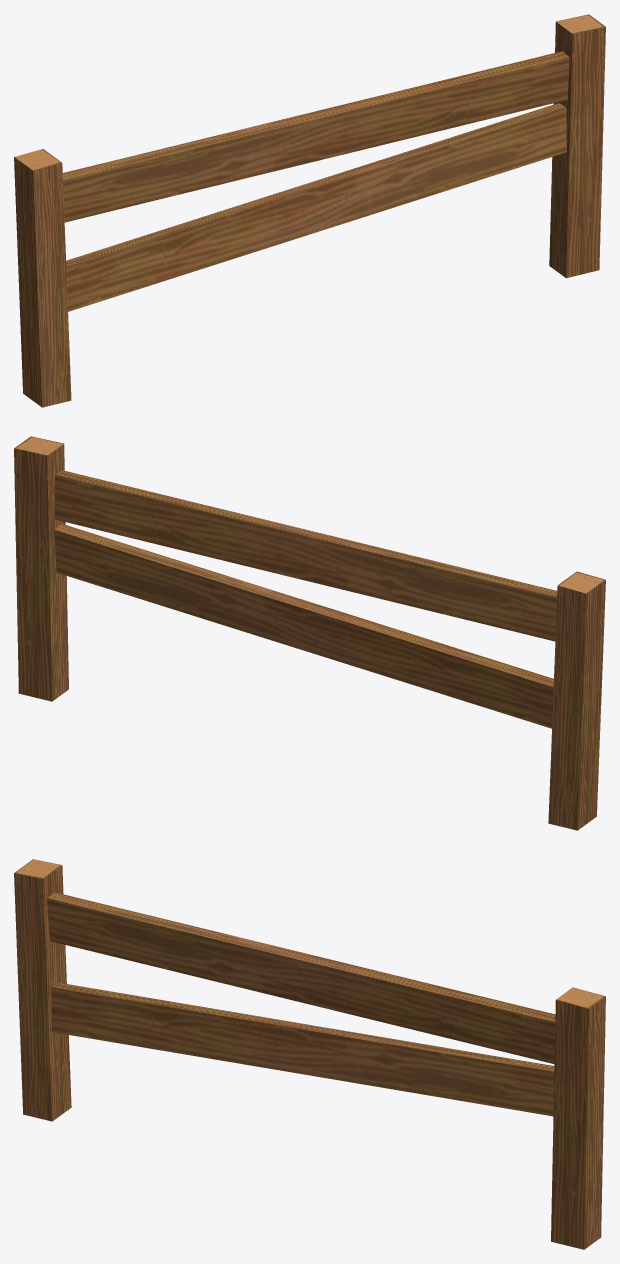
Rendered from prop_woodenfence_single.glb.
The picture shows the model from 3 angles, top to bottom: view 1: azimuth 30°, elevation 25°; view 2: azimuth 150°, elevation 25°; view 3: azimuth 330°, elevation 25°; orthographic projection.
Visible parts, largest first — view 1: Prop_WoodenFence_Single; view 2: Prop_WoodenFence_Single; view 3: Prop_WoodenFence_Single.
Part boxes in pixels (x1,y1,x2,y2): Prop_WoodenFence_Single: (14, 14, 605, 407); Prop_WoodenFence_Single: (14, 436, 605, 830); Prop_WoodenFence_Single: (14, 859, 605, 1249).
Bounding box in the file's own units: 2.06 × 0.8381 × 0.1197.
Materials: 1 (1 with a texture image).
